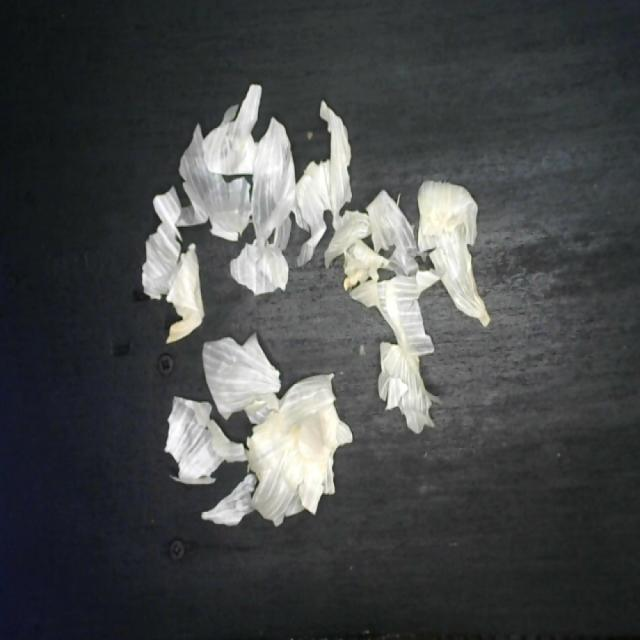biodegradable: (138, 74, 492, 548)
